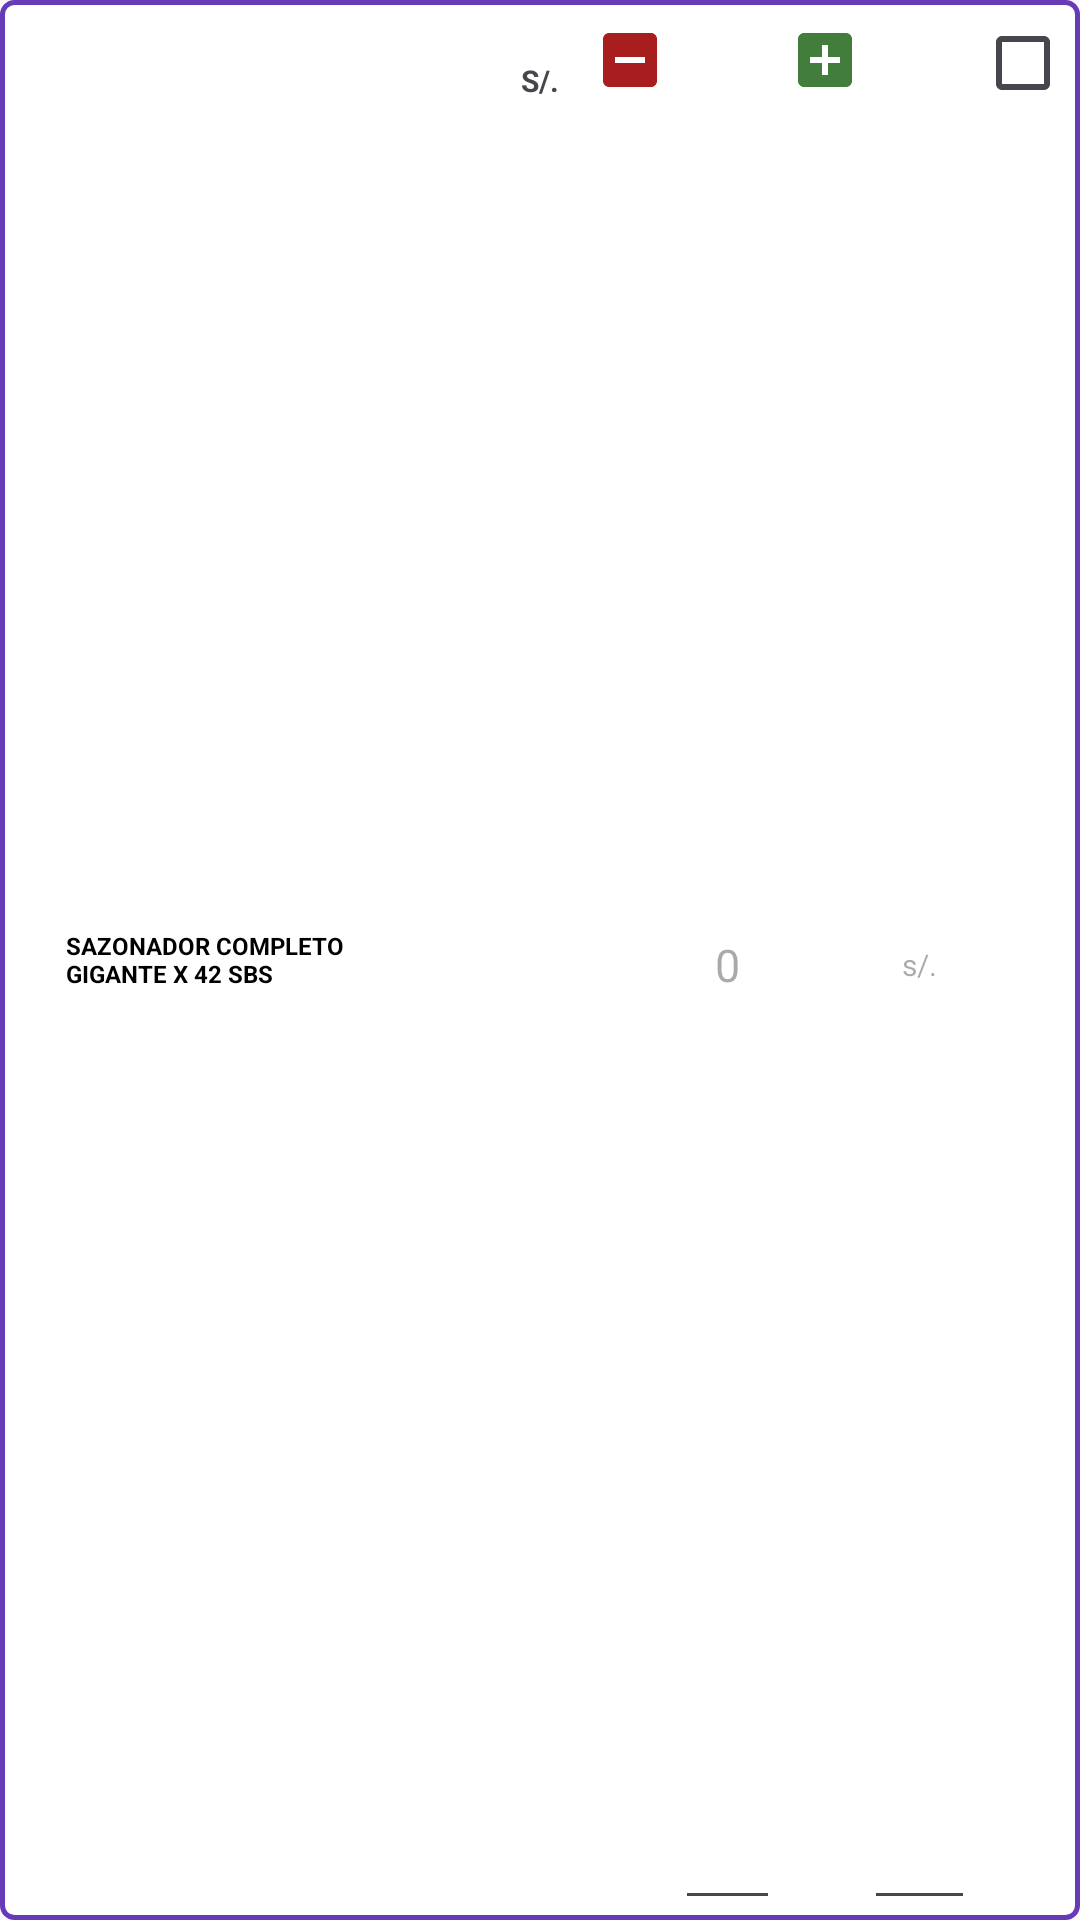

Named icons in this screenshot (1080x1920) and their bounding boxes, rect(x1, y1, x2, y2):
add box: rect(798, 33, 852, 87)
indeterminate check box: rect(603, 33, 657, 87)
